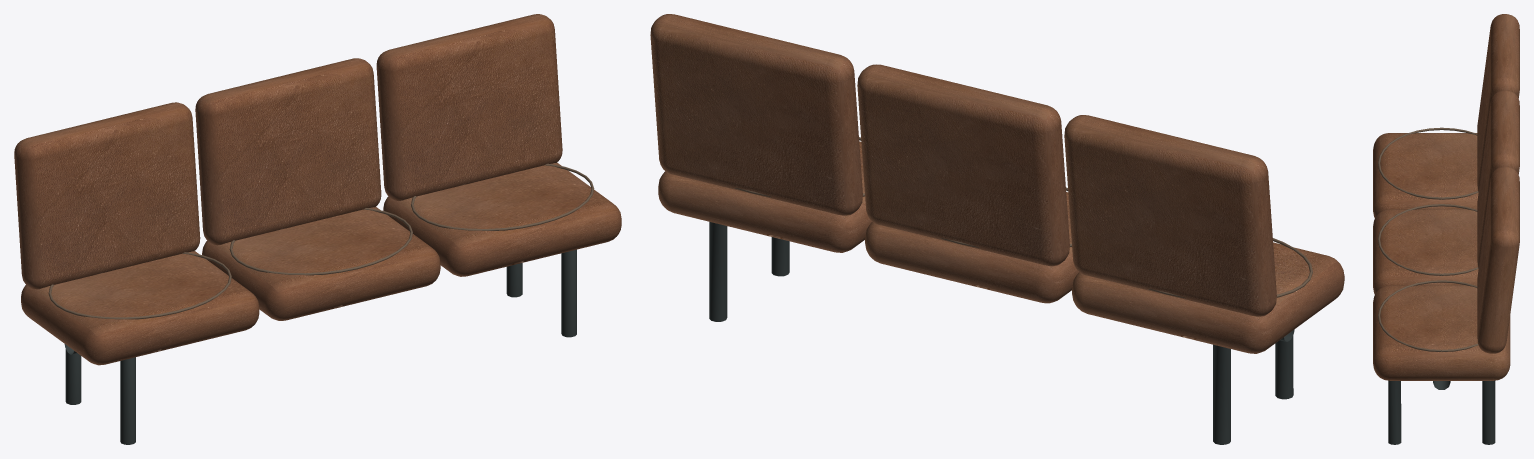
Rendered from waiting-bench.glb.
3 renders of one model, left to right at view 1: azimuth 30°, elevation 25°; view 2: azimuth 150°, elevation 25°; view 3: azimuth 270°, elevation 25°, orthographic. The views are drawn at different scales.
Parts seen in each view (by area): view 1: Individual rounded seat; view 2: Individual rounded seat; view 3: Individual rounded seat.
Part boxes in pixels (<box>): Individual rounded seat: <box>14,14,621,444</box>; Individual rounded seat: <box>650,14,1344,444</box>; Individual rounded seat: <box>1373,14,1519,444</box>.
Bounding box in the file's own units: 2.72 × 1.28 × 0.748.
Materials: 3 (1 with a texture image).
